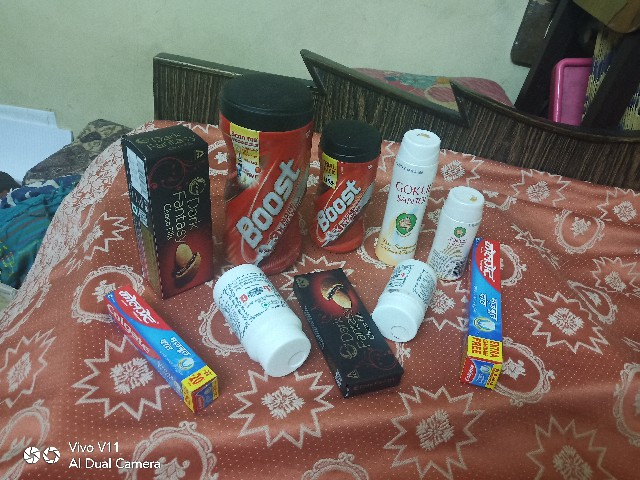boost big: (210, 77, 311, 271)
boost small: (315, 107, 383, 262)
colgatetoothpaste big: (460, 231, 515, 392)
darkfantasy big: (110, 116, 215, 299)
darkfantasy small: (291, 264, 400, 402)
gokulsantol big: (377, 117, 447, 267)
gokulsantol small: (433, 176, 485, 299)
lgasafoetidapowder large: (212, 264, 299, 379)
lgasafoetidapowder small: (102, 277, 218, 426), (372, 254, 438, 341)
